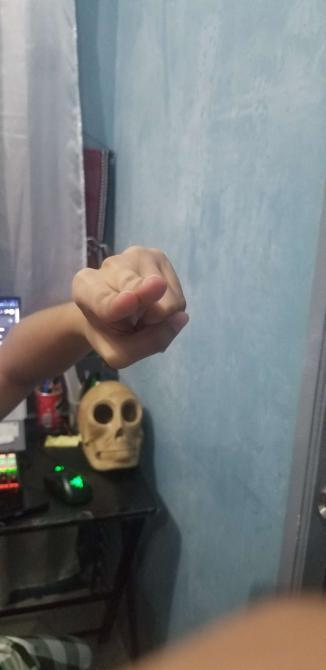n: (69, 244, 191, 373)
